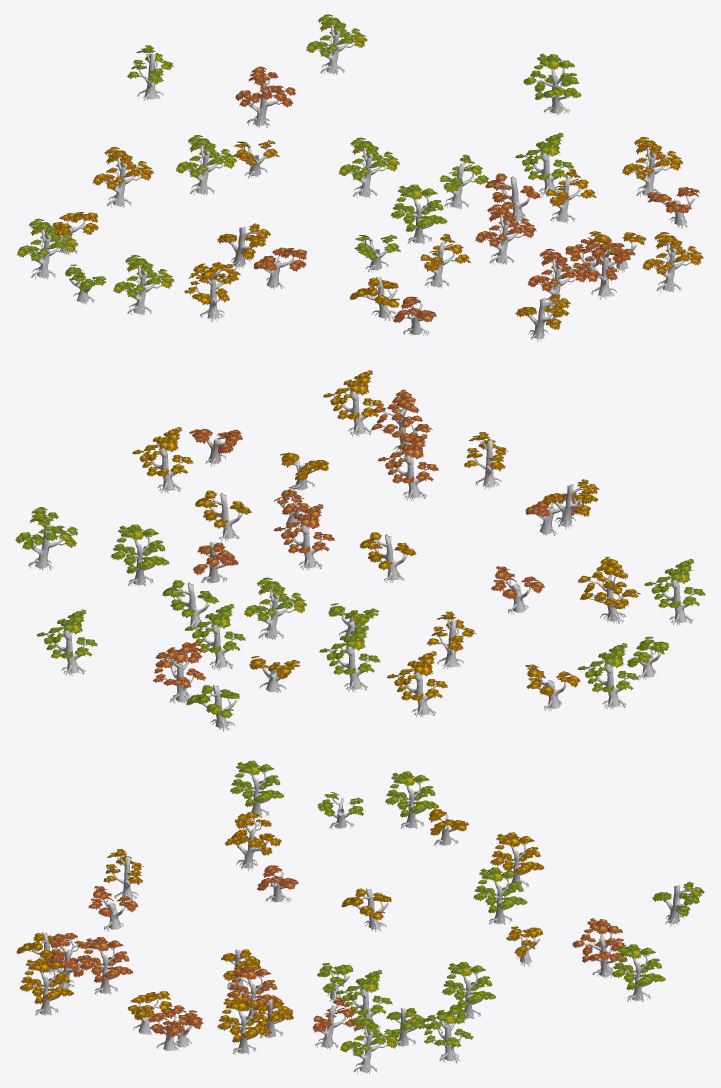
File: Demo Scene_Tree_01.FBX
3 views of the same model, one above another, from view 1: azimuth 30°, elevation 25°; view 2: azimuth 150°, elevation 25°; view 3: azimuth 270°, elevation 25° (orthographic). The views are drawn at different scales.
Parts seen in each view (by area): view 1: Tree_01D_green011, Tree_01D_green001, Tree_01D_yellow005, Tree_01D_green009, Tree_01D_green008, Tree_01D_green007, Tree_01D_green006, Tree_01D_Red002, Tree_01D_green004, Tree_01D_yellow006, Tree_01D_yellow002, Tree_01D_Red004 (+20 smaller); view 2: Tree_01D_green010, Tree_01D_yellow005, Tree_01D_Red007, Tree_01D_green011, Tree_01D_green001, Tree_01D_Red003, Tree_01D_Red002, Tree_01D_yellow002, Tree_01D_yellow007, Tree_01D_green009, Tree_01D_green008, Tree_01D_green004 (+21 smaller); view 3: Tree_01D_yellow007, Tree_01D_green008, Tree_01D_yellow002, Tree_01D_Red007, Tree_01D_green004, Tree_01D_green009, Tree_01D_green006, Tree_01D_green007, Tree_01D_yellow005, Tree_01D_green011, Tree_01D_Red003, Tree_01D_green010 (+21 smaller).
Boxes of the visible parts, x1,y1,x2,y2 form: Tree_01D_green011: (523, 53, 581, 115); Tree_01D_green001: (390, 184, 447, 244); Tree_01D_yellow005: (184, 262, 240, 322); Tree_01D_green009: (306, 14, 367, 74); Tree_01D_green008: (176, 134, 236, 195); Tree_01D_green007: (339, 137, 399, 198); Tree_01D_green006: (113, 254, 174, 315); Tree_01D_Red002: (475, 204, 536, 265); Tree_01D_green004: (17, 218, 78, 279); Tree_01D_yellow006: (92, 147, 153, 207); Tree_01D_yellow002: (642, 232, 703, 292); Tree_01D_Red004: (577, 240, 635, 299); Tree_01D_green010: (110, 524, 169, 586); Tree_01D_yellow005: (578, 556, 640, 624); Tree_01D_Red007: (153, 641, 205, 704); Tree_01D_green011: (15, 507, 77, 570); Tree_01D_green001: (244, 577, 306, 640); Tree_01D_Red003: (378, 434, 438, 500); Tree_01D_Red002: (273, 504, 334, 570); Tree_01D_yellow002: (323, 370, 383, 436); Tree_01D_yellow007: (132, 427, 193, 493); Tree_01D_green009: (36, 609, 97, 675); Tree_01D_green008: (319, 625, 380, 692); Tree_01D_green004: (577, 643, 638, 709); Tree_01D_yellow007: (217, 997, 271, 1054); Tree_01D_green008: (473, 867, 527, 925); Tree_01D_yellow002: (19, 958, 73, 1016); Tree_01D_Red007: (572, 918, 627, 978); Tree_01D_green004: (385, 771, 439, 829); Tree_01D_green009: (611, 944, 665, 1002); Tree_01D_green006: (230, 760, 283, 818); Tree_01D_green007: (442, 962, 495, 1019); Tree_01D_yellow005: (225, 812, 281, 871); Tree_01D_green011: (423, 1003, 473, 1063); Tree_01D_Red003: (80, 937, 133, 994); Tree_01D_green010: (340, 1015, 398, 1073).
Bounding box in the file's own units: 6601 × 1212 × 7066.
